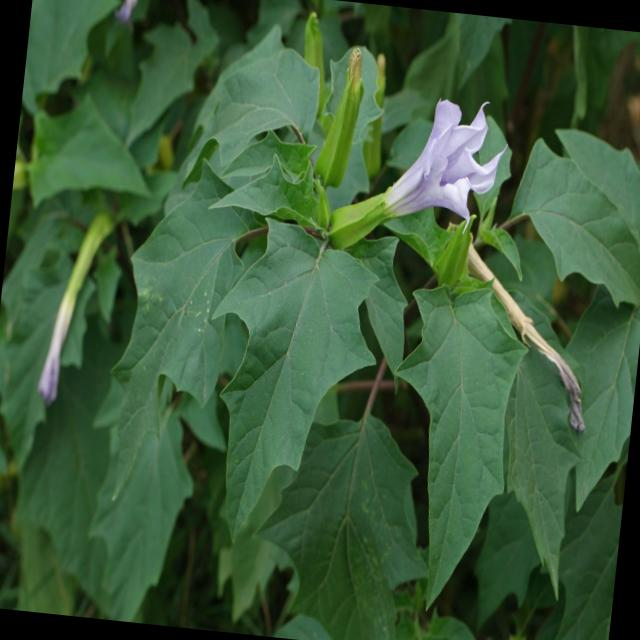Poisonous-Datura_Stramonium: (119, 172, 440, 640), (433, 218, 626, 496), (308, 82, 516, 314), (15, 182, 136, 450)
